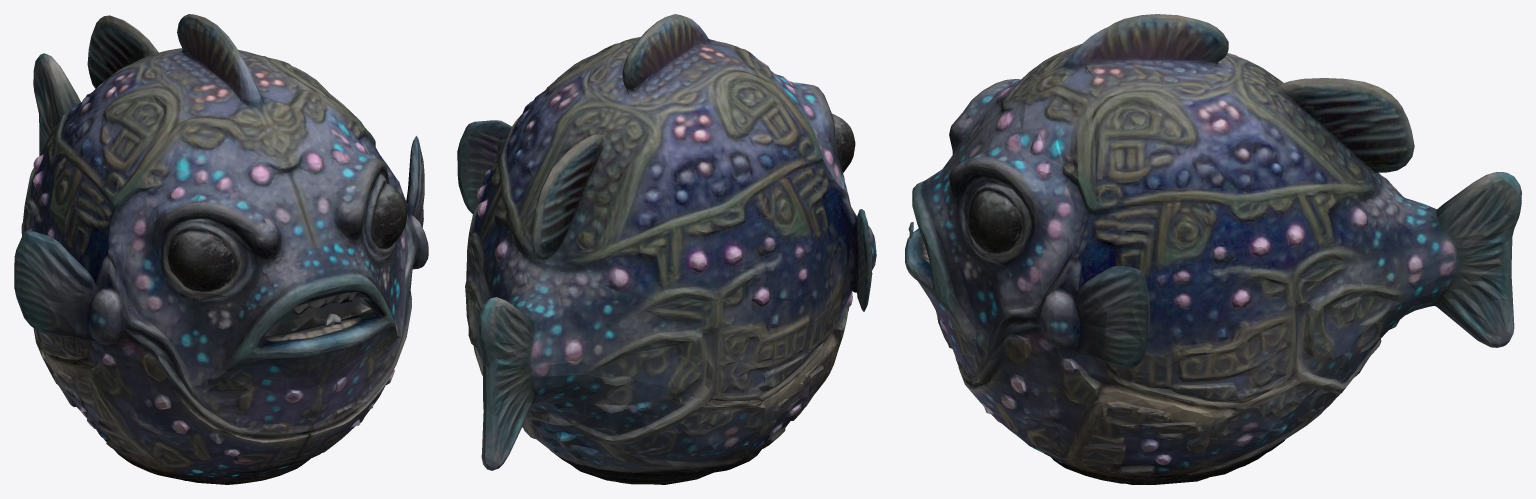
Rendered from deepGlowfish.glb.
3 views of the same model, side by side, from view 1: azimuth 30°, elevation 25°; view 2: azimuth 150°, elevation 25°; view 3: azimuth 270°, elevation 25° (orthographic). The views are drawn at different scales.
Parts seen in each view (by area): view 1: world; view 2: world; view 3: world.
Boxes of the visible parts, <box> form: world: <box>14,14,428,484</box>; world: <box>457,14,876,484</box>; world: <box>905,14,1521,484</box>.
Size of the model in its own units: 0.7888 by 0.7971 by 1.
Materials: 1 (1 with a texture image).
